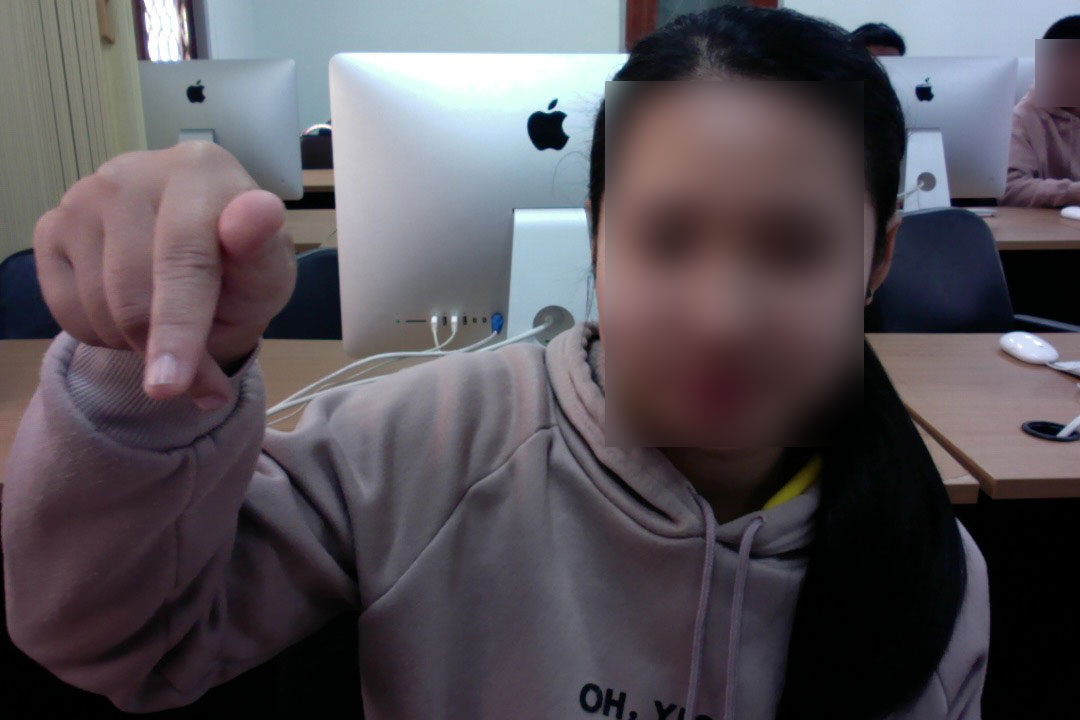por: (24, 115, 309, 410)
